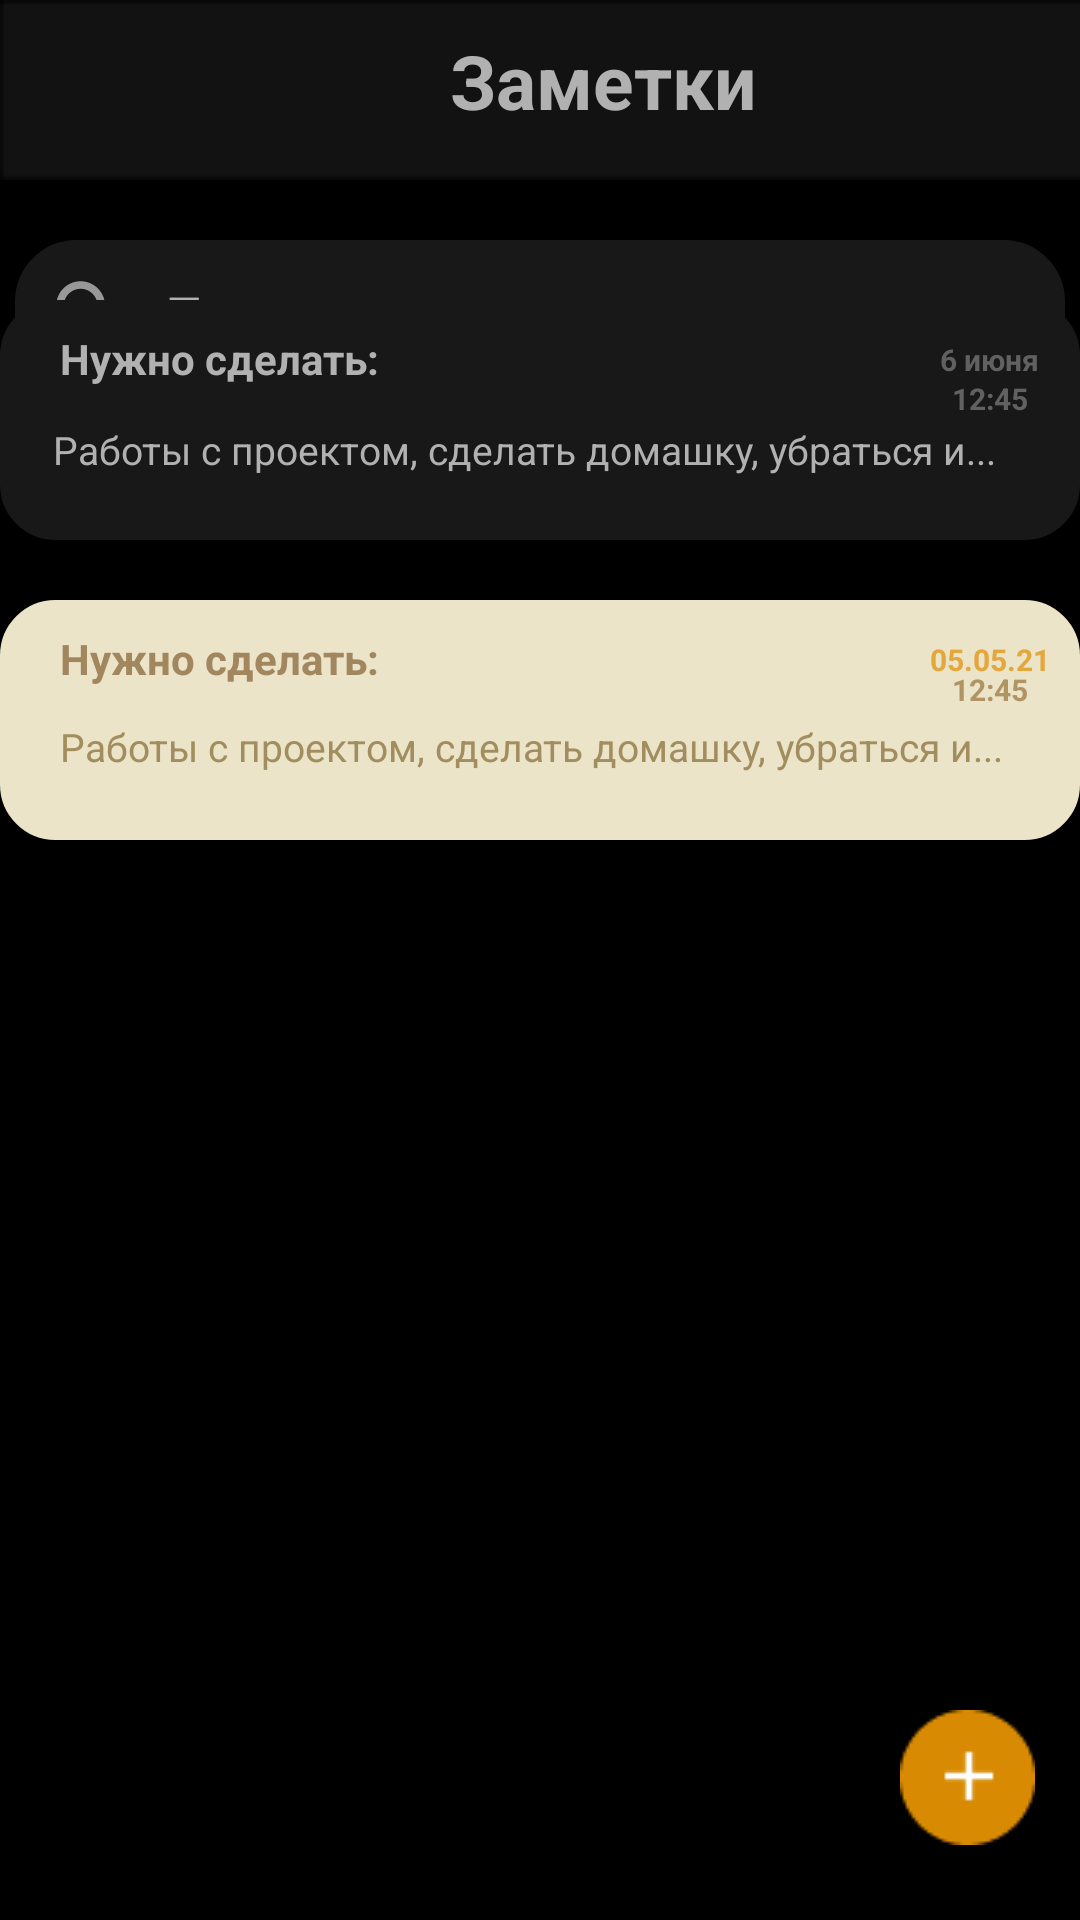

Icons on this 1080x1920 Android screen, each with its box as (x1, y1, x2, y2):
plus: (900, 1710, 1035, 1845)
